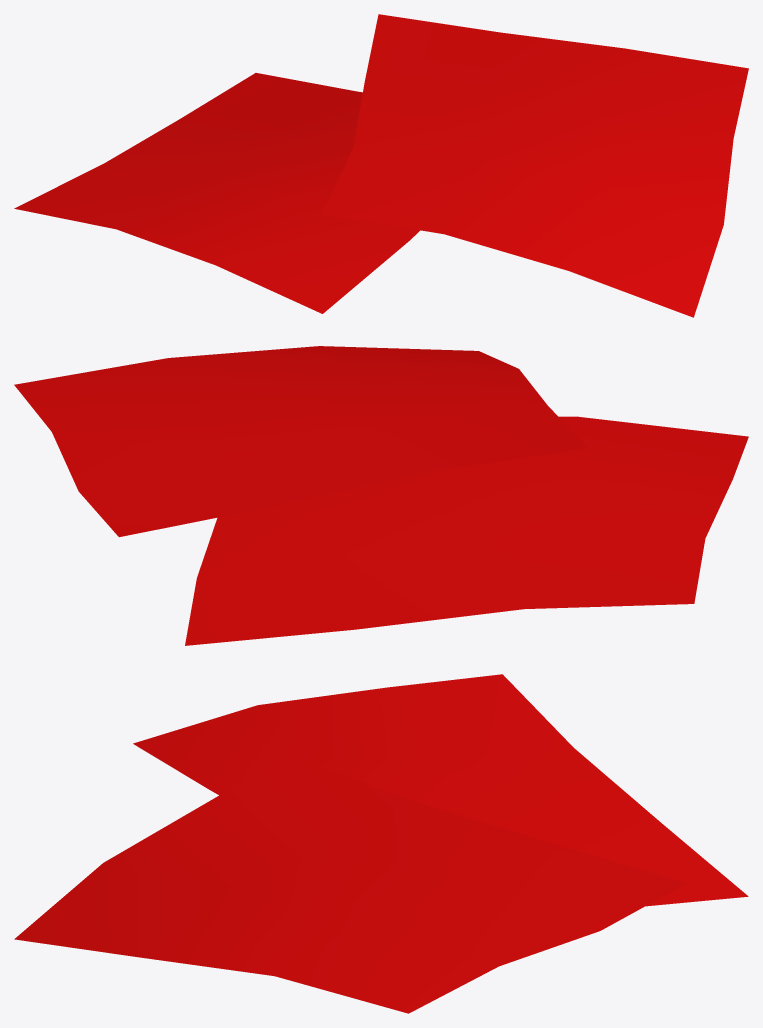
File: Attic_Paper_04_LP.glb
The picture shows the model from 3 angles, top to bottom: view 1: azimuth 30°, elevation 25°; view 2: azimuth 150°, elevation 25°; view 3: azimuth 270°, elevation 25°; orthographic projection. The views are drawn at different scales.
Visible parts, largest first — view 1: Attic_Paper_04_LP; view 2: Attic_Paper_04_LP; view 3: Attic_Paper_04_LP.
Part boxes in pixels (x1=…): Attic_Paper_04_LP: x1=14, y1=14, x2=748, y2=317; Attic_Paper_04_LP: x1=14, y1=346, x2=748, y2=645; Attic_Paper_04_LP: x1=14, y1=674, x2=748, y2=1013.
Size of the model in its own units: 0.1195 by 0.0106 by 0.1075.
